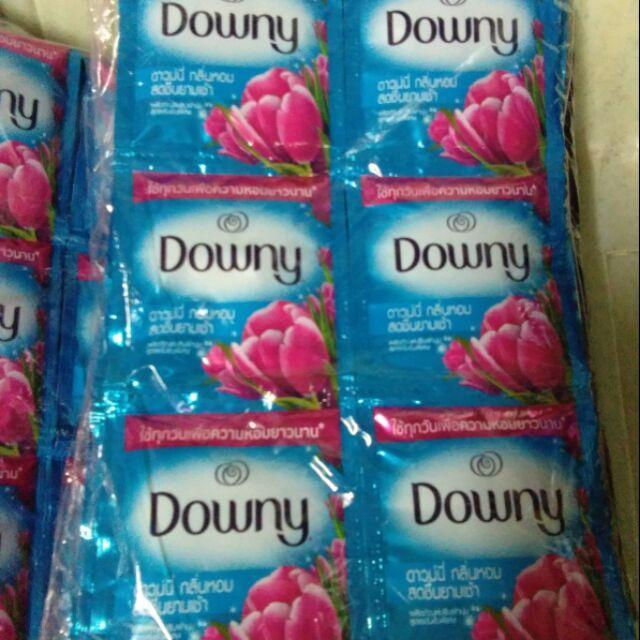Paquete de plastico: (111, 0, 608, 638)
